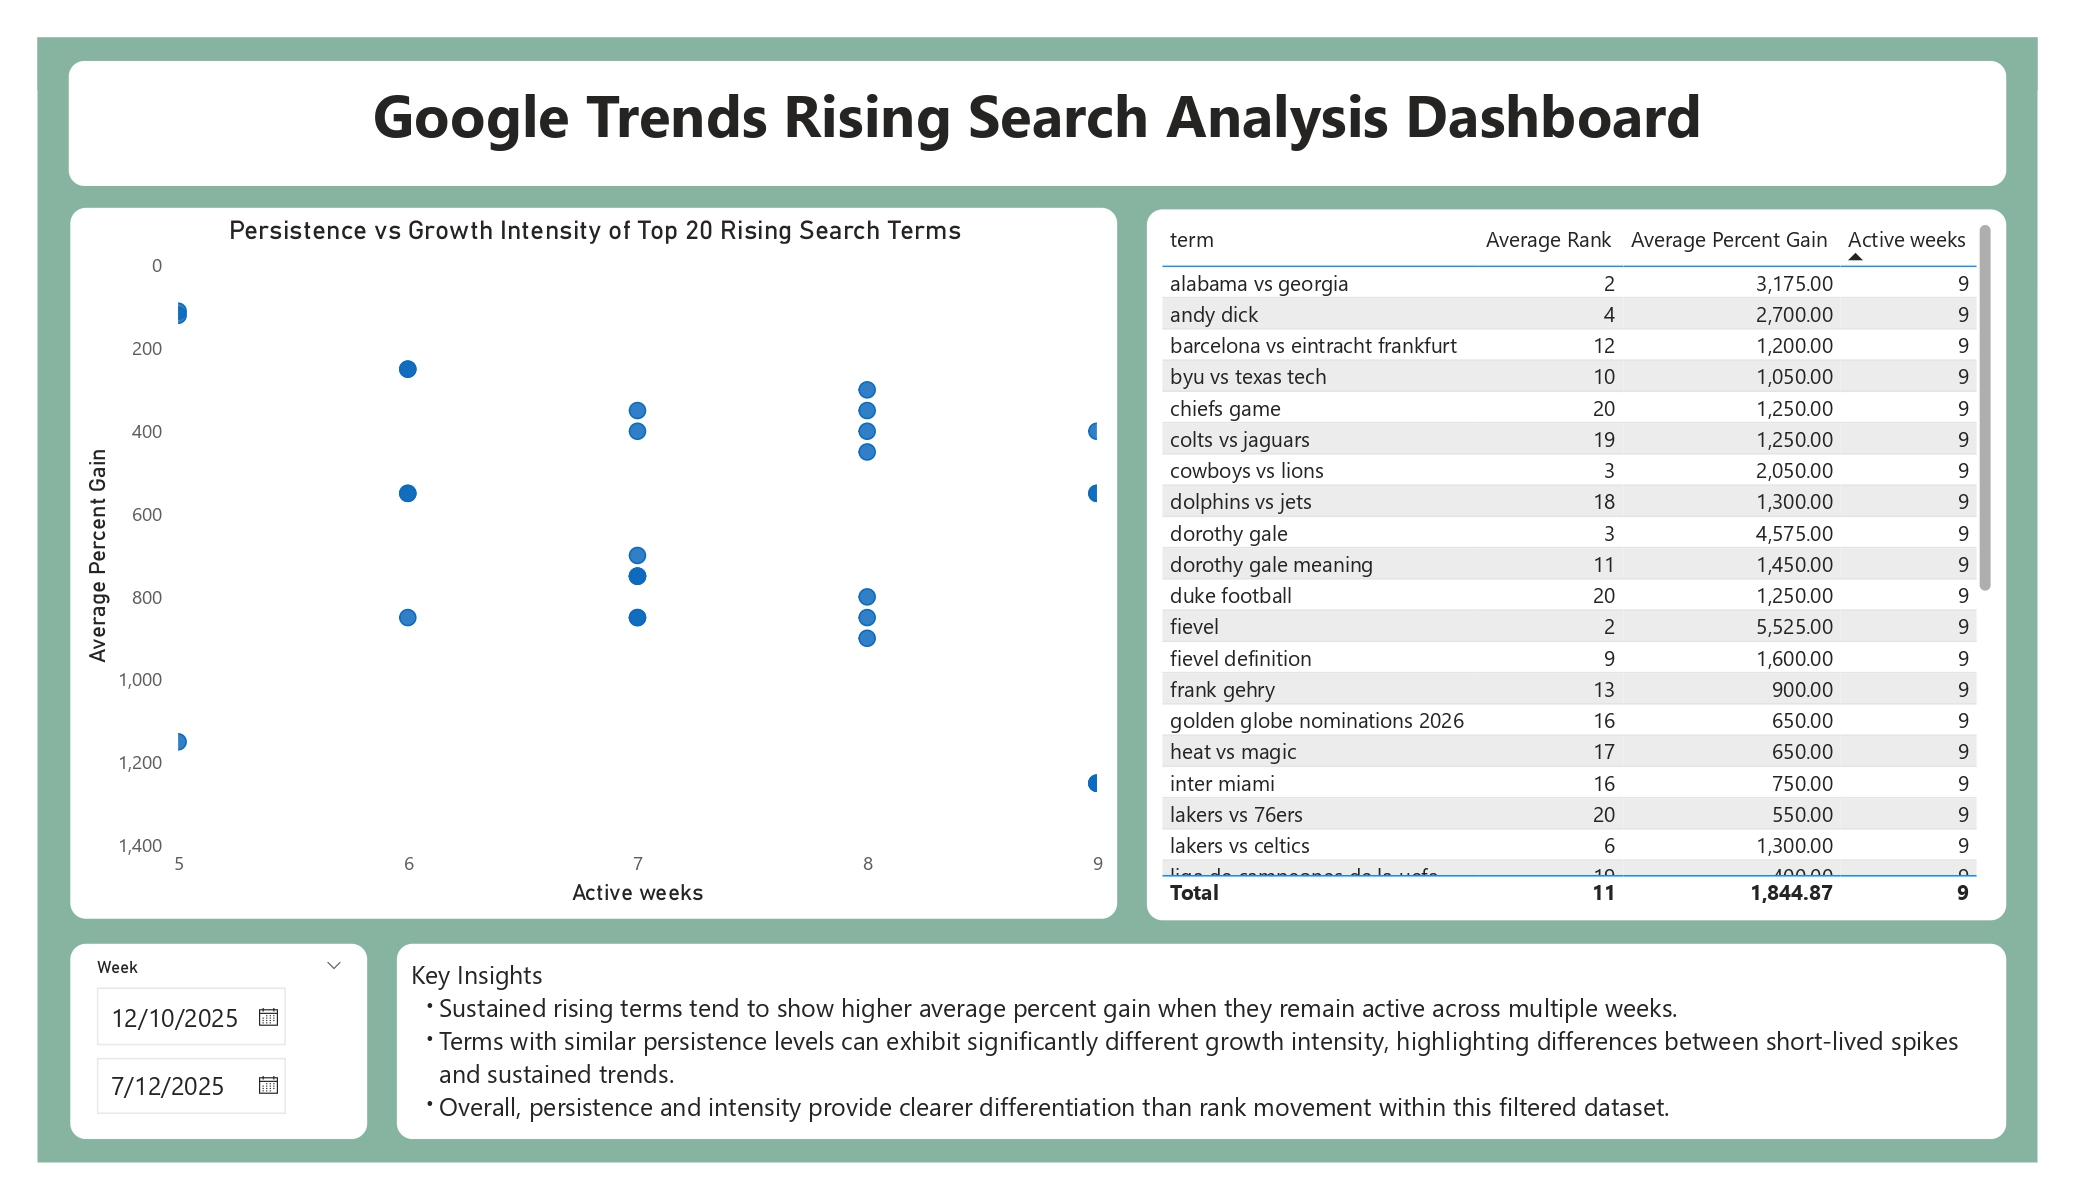

This screenshot's page, from the dashboard's own definition file:
{"tool":"powerbi","page":{"name":"Top 20 Rising Search Terms","canvas":[1280,720],"ordinal":1},"visuals":[{"type":"scatterChart","title":"Persistence vs Growth Intensity of Top 20 Rising Search Terms","fields":{"X":["google_trends_rising_terms.Active weeks"],"Y":["google_trends_rising_terms.Average Percent Gain"],"Category":["google_trends_rising_terms.term"]},"box":[20.5,109,670,455],"z":0},{"type":"tableEx","fields":{"Values":["google_trends_rising_terms.term","google_trends_rising_terms.Average Rank","google_trends_rising_terms.Average Percent Gain","google_trends_rising_terms.Active weeks"]},"box":[710,109.5,550,455.2],"z":1000},{"type":"textbox","box":[20,15,1240,80],"z":2000},{"type":"textbox","box":[230,580.1,1030,125],"z":3000},{"type":"slicer","fields":{"Values":["google_trends_rising_terms.week"]},"box":[20.5,580.1,190,125],"z":4000}]}

Visuals, with their boxes on the page's 1280x720 design canvas (x1, y1, x2, y2). These are canvas units, not pixel positions in the 2075x1200 screenshot, which may show the page scaled, cropped or inside an application window:
"Persistence vs Growth Intensity of Top 20 Rising Search Terms" scatterChart: box=[20, 109, 690, 564]
tableEx - google_trends_rising_terms.term x google_trends_rising_terms.Average Rank: box=[710, 110, 1260, 565]
textbox: box=[20, 15, 1260, 95]
textbox: box=[230, 580, 1260, 705]
slicer - google_trends_rising_terms.week: box=[20, 580, 210, 705]
